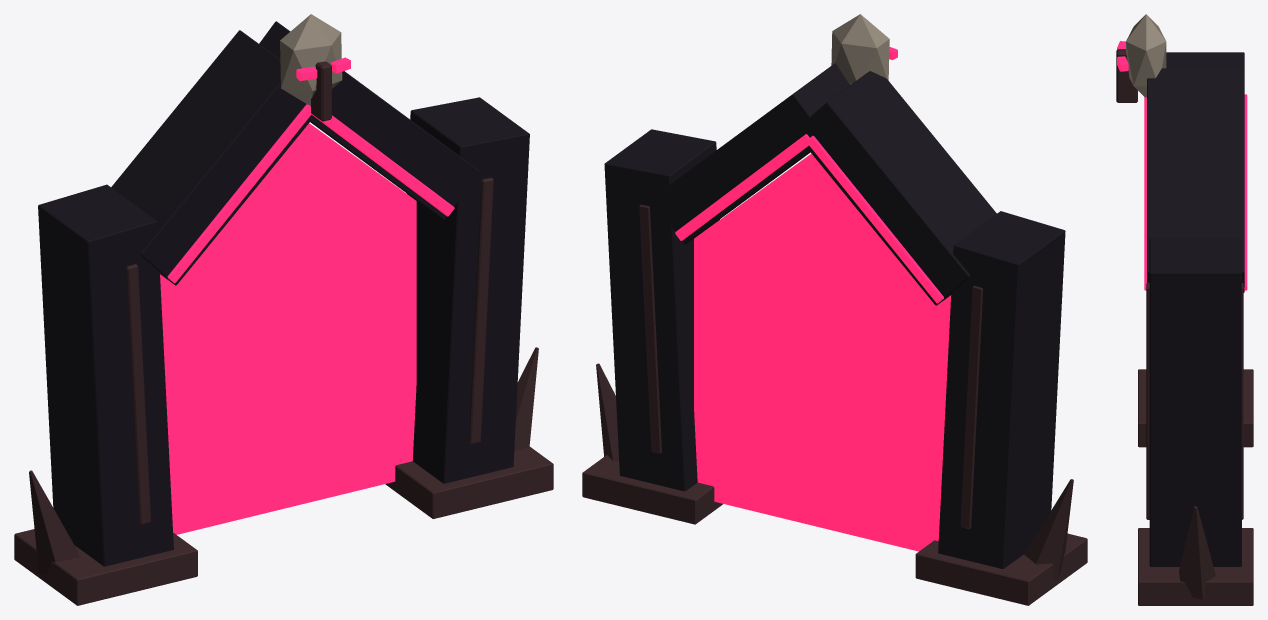
File: portal_official_campaign_LOD2.glb
The picture shows the model from 3 angles, left to right: view 1: azimuth 30°, elevation 25°; view 2: azimuth 150°, elevation 25°; view 3: azimuth 270°, elevation 25°; orthographic projection. The views are drawn at different scales.
Visible parts, largest first — view 1: portal_official_campaign_LOD2; view 2: portal_official_campaign_LOD2; view 3: portal_official_campaign_LOD2.
Boxes of the visible parts, x1,y1,x2,y2 form: portal_official_campaign_LOD2: [14, 14, 553, 605]; portal_official_campaign_LOD2: [582, 14, 1087, 605]; portal_official_campaign_LOD2: [1116, 14, 1253, 605].
Size of the model in its own units: 5.96 by 5.94 by 1.52.
